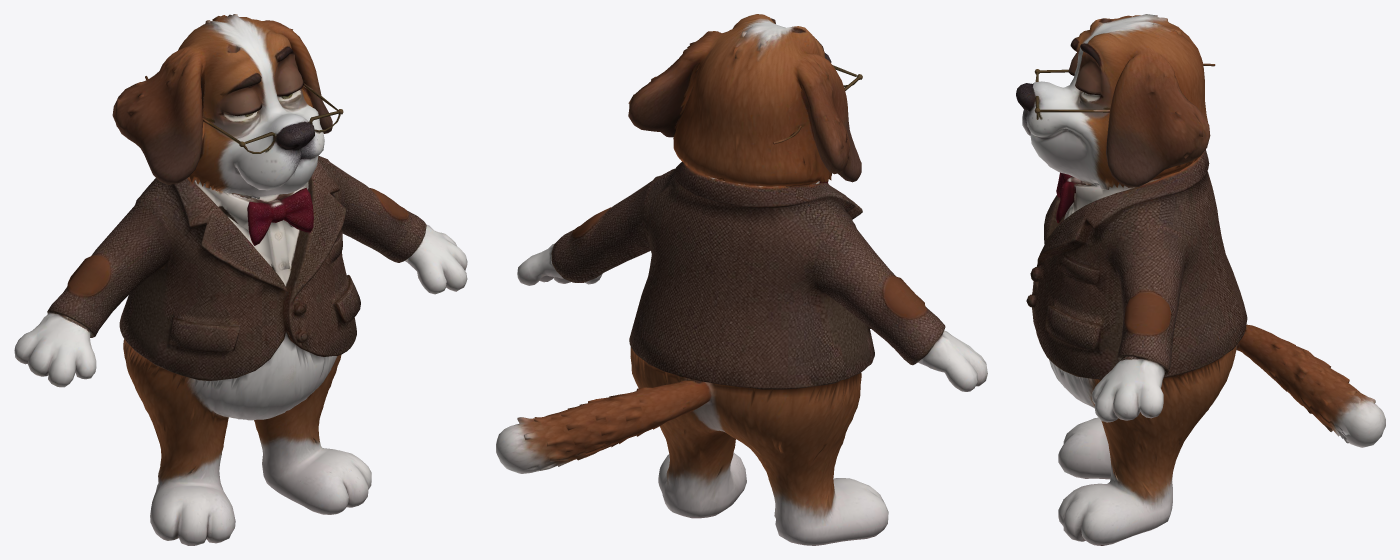
Rendered from mitsi-dog-3d.glb.
3 views of the same model, side by side, from view 1: azimuth 30°, elevation 25°; view 2: azimuth 150°, elevation 25°; view 3: azimuth 270°, elevation 25° (orthographic). The views are drawn at different scales.
Parts seen in each view (by area): view 1: tripo_node_468f5478-f41e-4a5c-8bf0-eaa84d7d722f; view 2: tripo_node_468f5478-f41e-4a5c-8bf0-eaa84d7d722f; view 3: tripo_node_468f5478-f41e-4a5c-8bf0-eaa84d7d722f.
Boxes of the visible parts, x1,y1,x2,y2 form: tripo_node_468f5478-f41e-4a5c-8bf0-eaa84d7d722f: (14,14,467,545); tripo_node_468f5478-f41e-4a5c-8bf0-eaa84d7d722f: (496,14,987,545); tripo_node_468f5478-f41e-4a5c-8bf0-eaa84d7d722f: (1016,14,1385,545).
Bounding box in the file's own units: 0.9329 × 0.9789 × 0.6858.
Materials: 1 (1 with a texture image).
